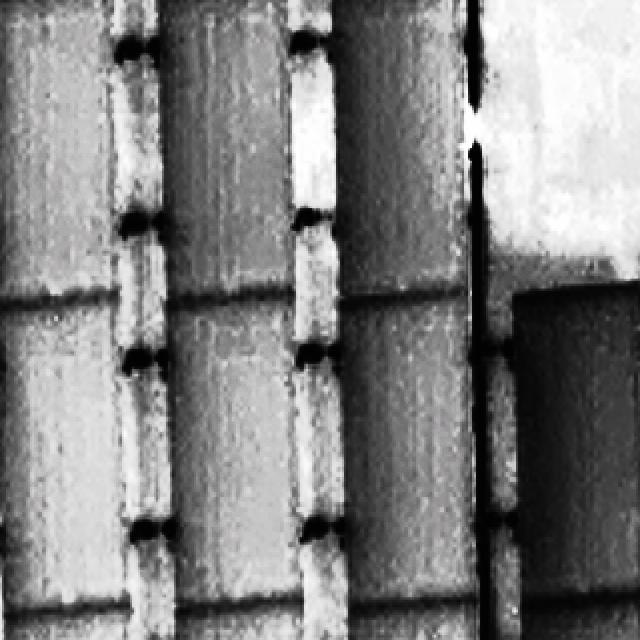PV-modules: (339, 294, 489, 617), (153, 0, 300, 303), (166, 296, 305, 611), (334, 0, 476, 307), (2, 291, 132, 617), (510, 289, 640, 607), (0, 0, 117, 303), (348, 600, 491, 640), (524, 599, 640, 640), (8, 607, 132, 640), (179, 608, 306, 640)
